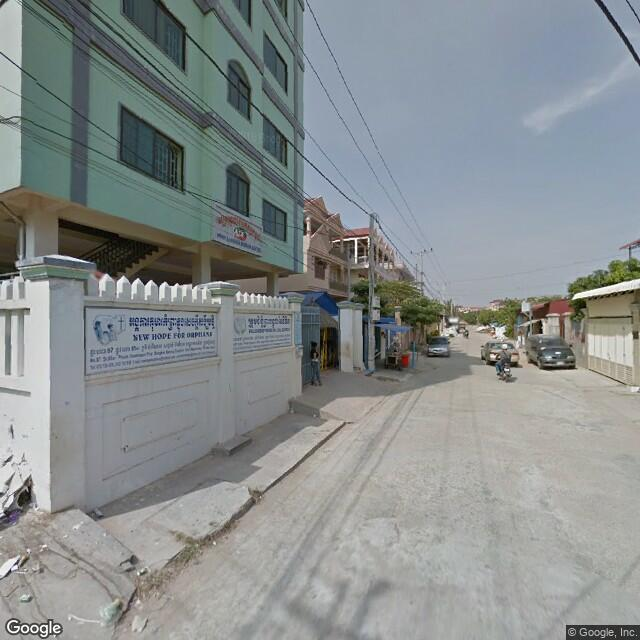litter: (2, 538, 36, 580), (96, 600, 122, 627), (127, 611, 151, 632), (20, 590, 33, 599)
